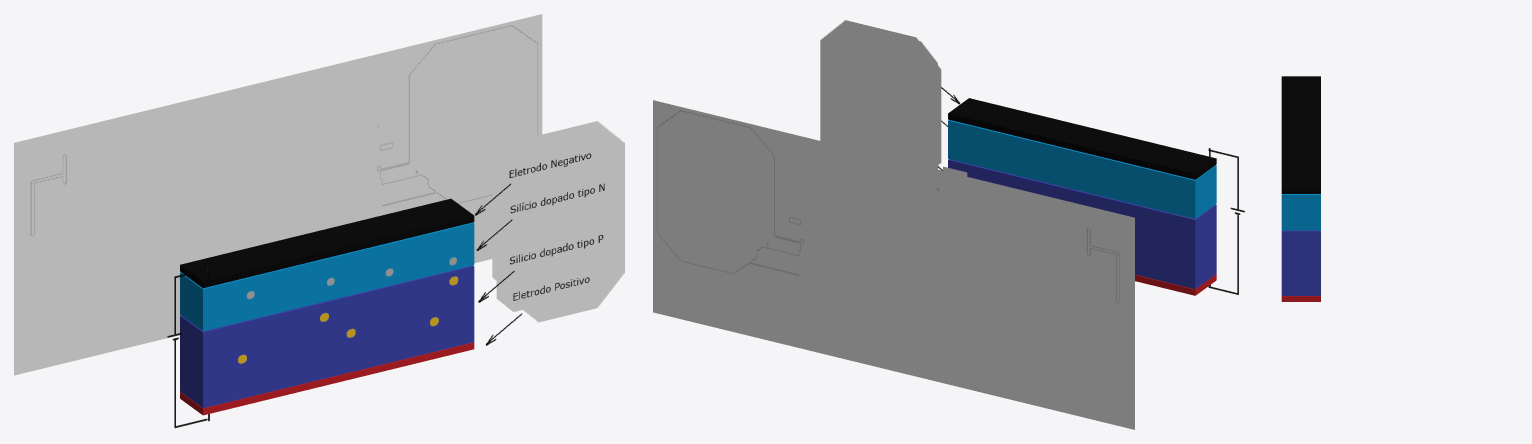
Rendered from célula fotovoltaica.glb.
3 views of the same model, side by side, from view 1: azimuth 30°, elevation 25°; view 2: azimuth 150°, elevation 25°; view 3: azimuth 270°, elevation 25° (orthographic). The views are drawn at different scales.
Visible parts, largest first — view 1: mesh_id1, mesh_id45, mesh_id287, mesh_id29, mesh_id44, mesh_id286, mesh_id51; view 2: mesh_id1, mesh_id286, mesh_id29, mesh_id45, mesh_id44, mesh_id51; view 3: mesh_id44, mesh_id45, mesh_id29.
Part boxes in pixels (left/top/right/bottom): mesh_id1: left=14, top=14, right=542, bottom=375; mesh_id45: left=180, top=265, right=474, bottom=408; mesh_id287: left=497, top=125, right=617, bottom=311; mesh_id29: left=180, top=222, right=474, bottom=331; mesh_id44: left=180, top=198, right=474, bottom=288; mesh_id286: left=492, top=121, right=624, bottom=322; mesh_id51: left=180, top=342, right=474, bottom=415; mesh_id1: left=653, top=100, right=1134, bottom=429; mesh_id286: left=820, top=20, right=941, bottom=169; mesh_id29: left=948, top=120, right=1216, bottom=218; mesh_id45: left=948, top=159, right=1216, bottom=289; mesh_id44: left=948, top=98, right=1216, bottom=179; mesh_id51: left=1135, top=274, right=1216, bottom=295; mesh_id44: left=1281, top=76, right=1320, bottom=193; mesh_id45: left=1281, top=230, right=1320, bottom=295; mesh_id29: left=1281, top=194, right=1320, bottom=230.
Bounding box in the file's own units: 0.836 × 0.3661 × 0.3941.
Materials: 28 (28 with a texture image).
